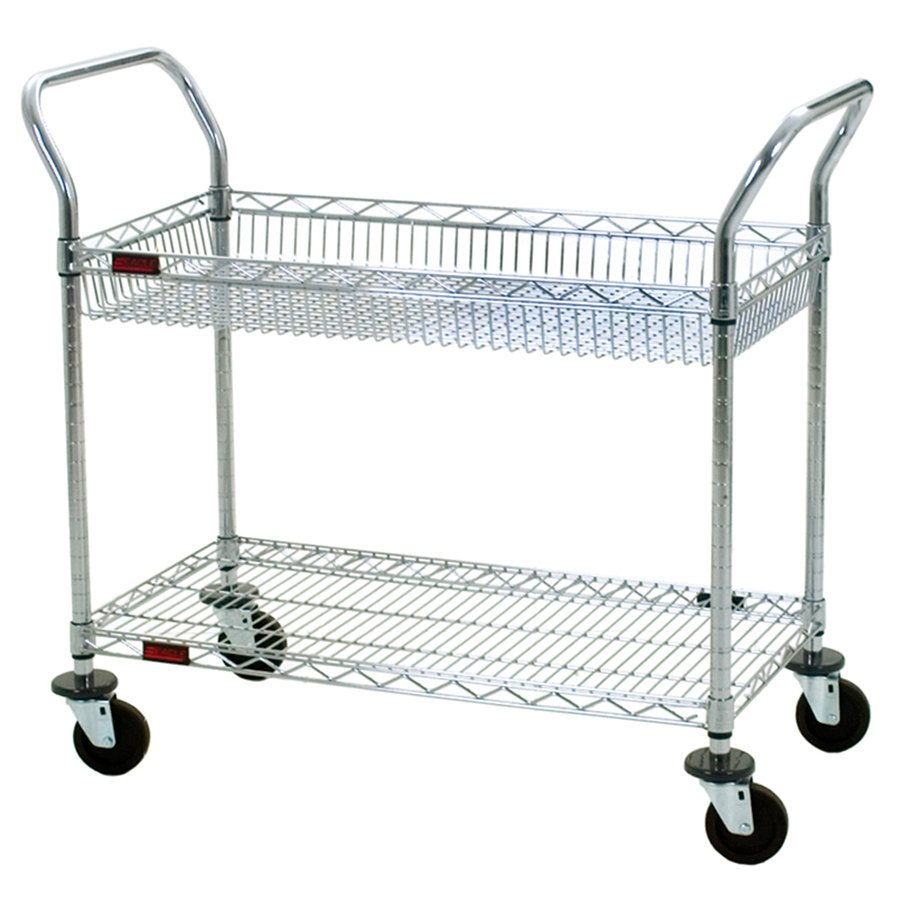Carts: (18, 45, 875, 864)
